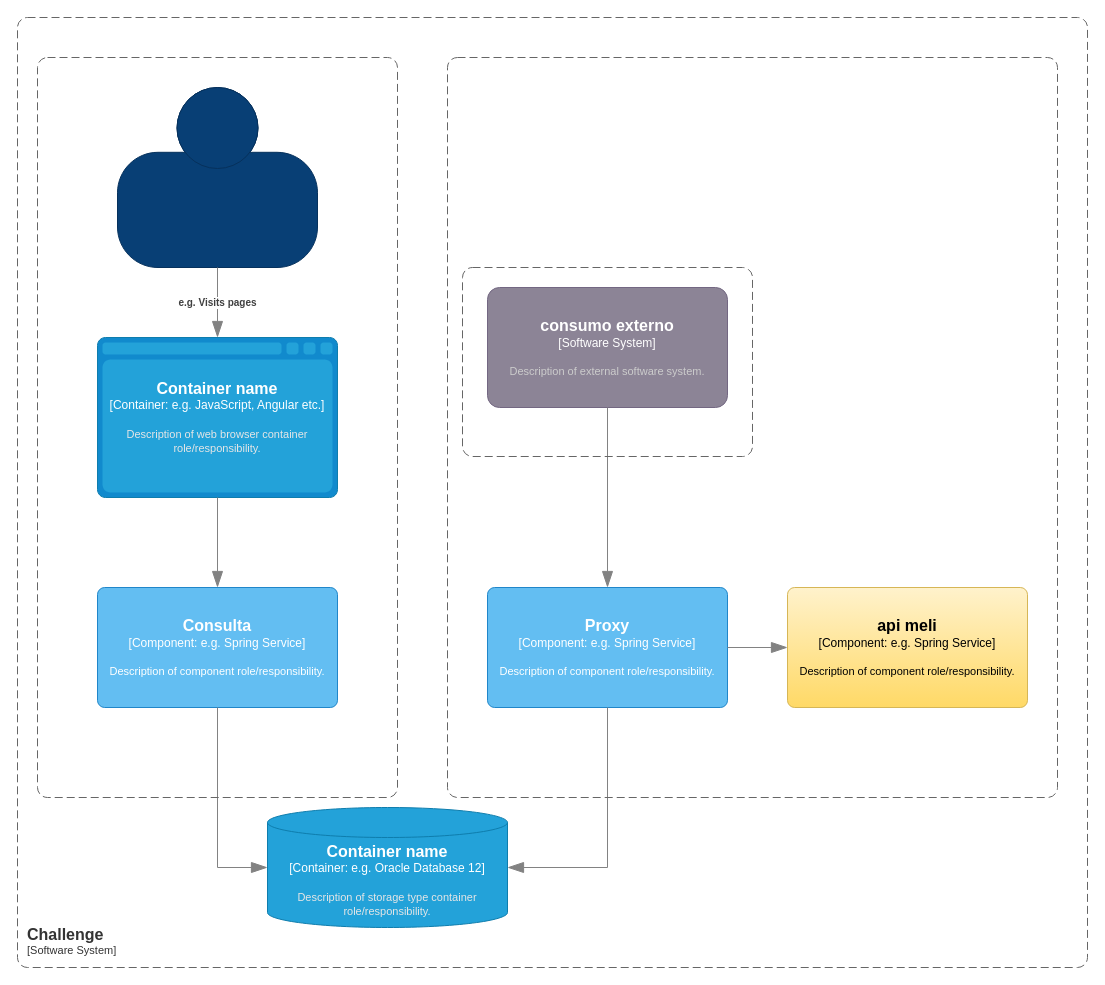
Image size: 1105x985. Some labels were removed from this diagram. The shapes that lost their labels are listed below. From the top down, each one's box as (x1, y1, x2, y2) in pixels, then its label:
(116, 86, 318, 268): Person name [Person] Description of person.
(462, 266, 752, 456): Clients [Software System]
(36, 56, 398, 798): Consulta consumo [Container]
(446, 56, 1058, 798): Proxy [Container]
